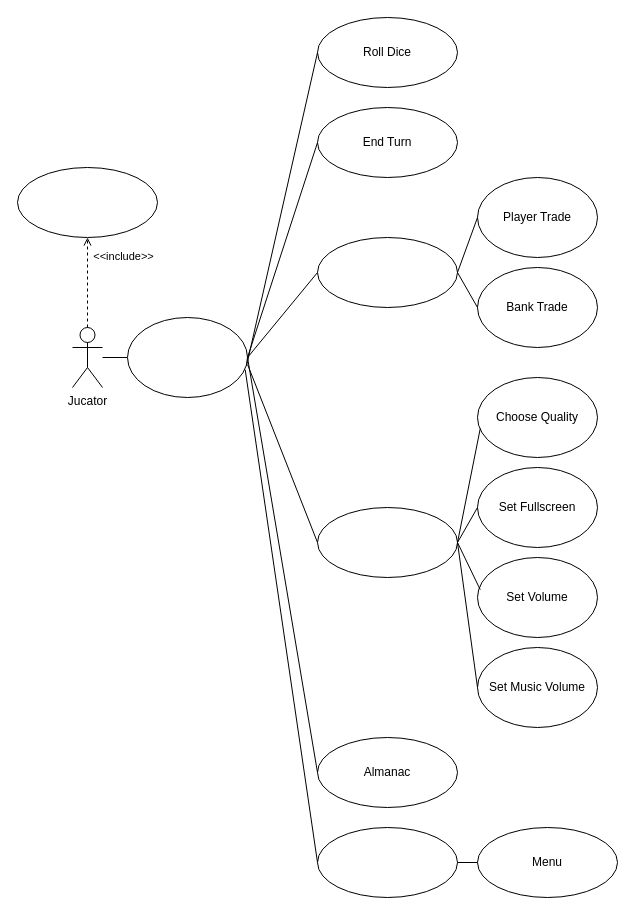
The diagram is 635 pixels wide and 915 high, and some of its shapes have lost their labels. The shapes that lost their labels are listed below. From the top down, each one's centre as x and y in pixels, then its label:
At (x=87, y=202): "Login".
At (x=387, y=272): "Trade".
At (x=187, y=357): "Game".
At (x=387, y=542): "Settings".
At (x=387, y=862): "Leave Game".
